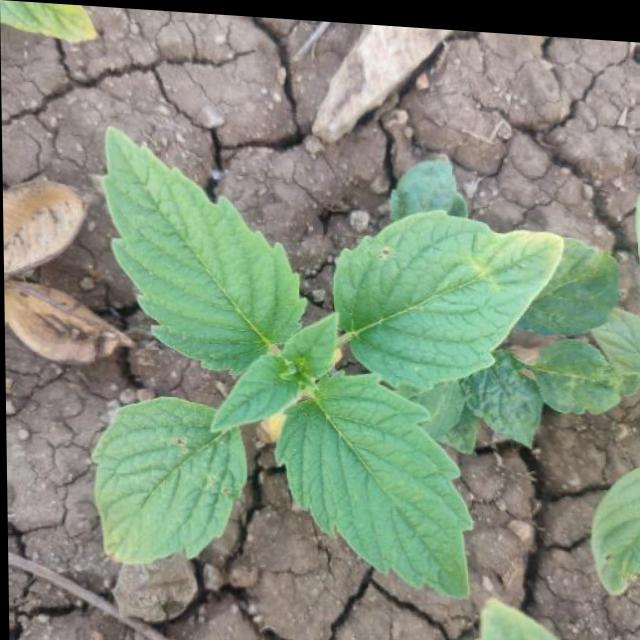crop: (71, 127, 591, 623)
